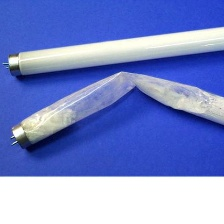light_bulb: (3, 67, 224, 156), (0, 21, 224, 86)
